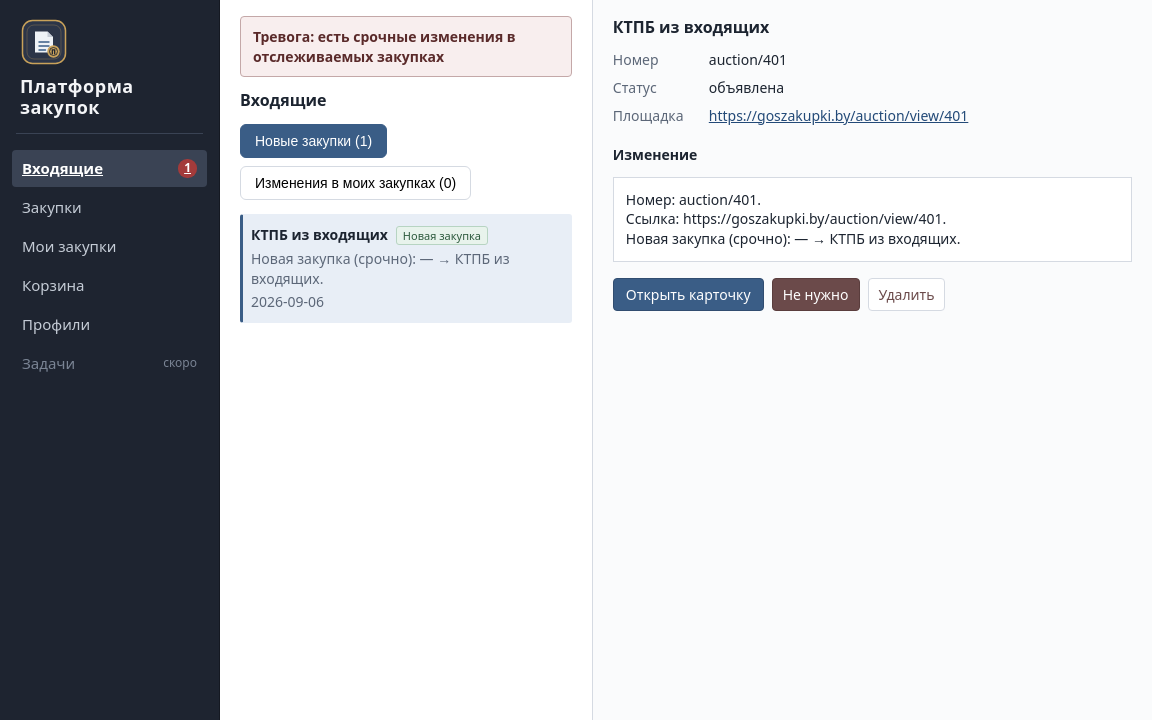
Scenario: SpecialistApp search list › moves an inbox case into Закупки and opens it for triage
Click the button "Открыть карточку" at (688,294), box [613, 278, 764, 311]
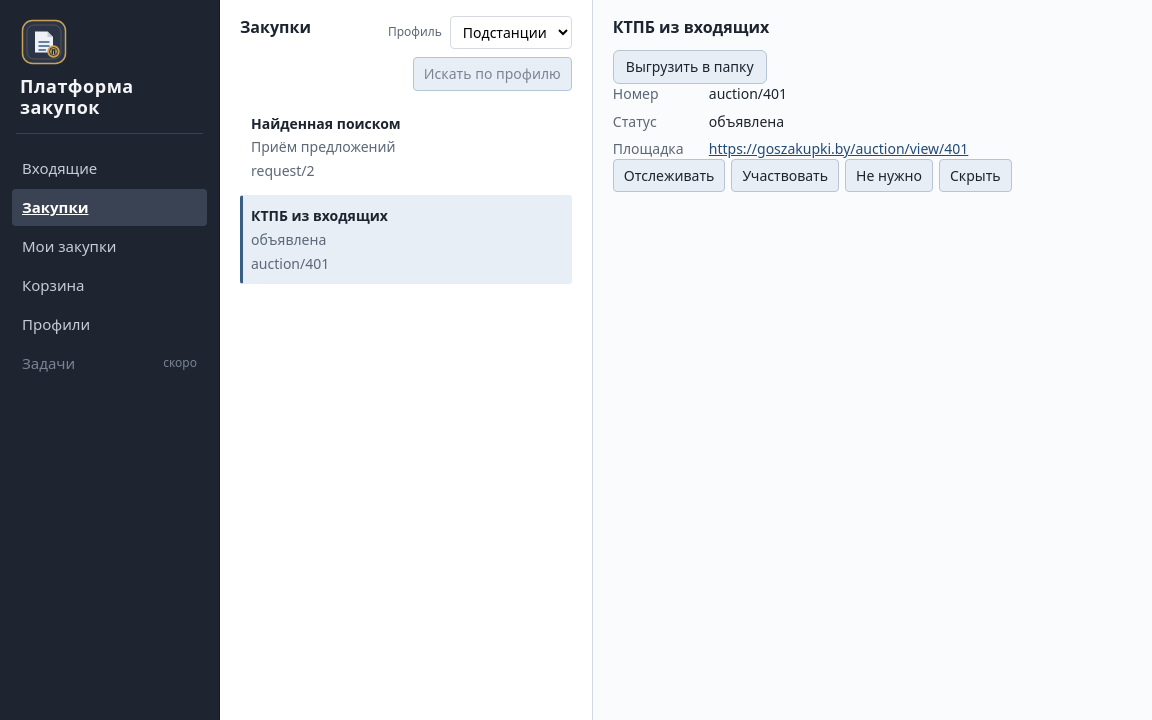
Expected: the heading "КТПБ из входящих" is shown, [613, 16, 769, 38]
Result: the button "Отслеживать" is shown at [613, 159, 725, 192]
